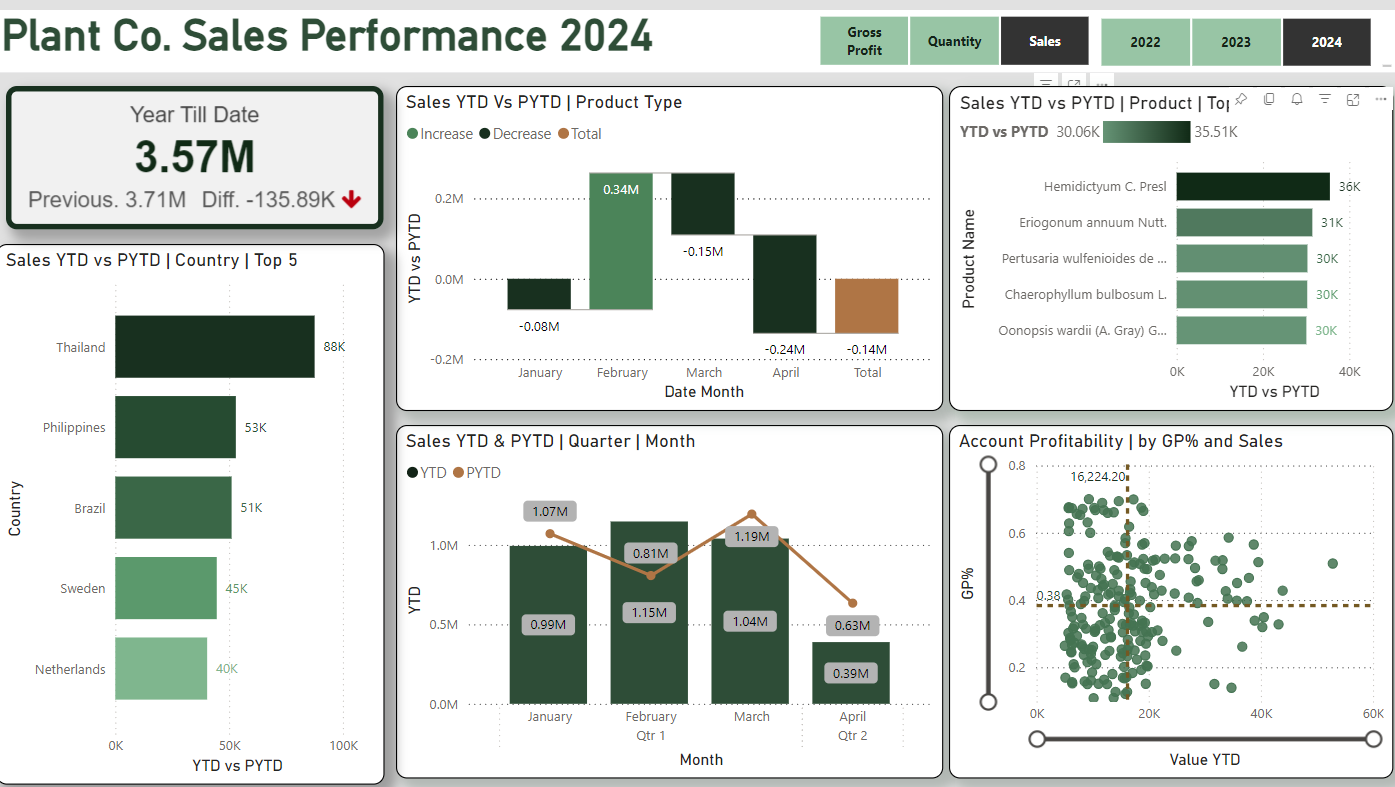

The dashboard page shown, as its layout file describes it:
{"tool":"powerbi","page":{"name":"Performance Report","canvas":[1280,720],"ordinal":0},"visuals":[{"type":"textbox","box":[0,9.6,1279.8,56.7],"z":1000},{"type":"slicer","title":"Year","fields":{"Values":["Dim_Date.Date.Variation.Date Hierarchy.Year"]},"box":[983.7,11.3,296.3,56.6],"z":2000},{"type":"slicer","title":"Year","fields":{"Values":["Slc_Values.Values"]},"box":[727.5,9.3,295.3,57.6],"z":3000},{"type":"lineClusteredColumnComboChart","fields":{"Category":["Dim_Date.Date.Variation.Date Hierarchy.Quarter","Dim_Date.Date.Variation.Date Hierarchy.Month"],"Y":["_Measures.S_YTD"],"Y2":["_Measures.S_PYTD"]},"box":[365.3,388.9,500.1,323.1],"z":4000},{"type":"waterfallChart","fields":{"Category":["Dim_Date.Date.Variation.Date Hierarchy.Month","Dim_Product.Produt_Type"],"Y":["_Measures.YTD vs PYTD"]},"box":[365.6,79.7,500,296.9],"z":5000},{"type":"scatterChart","fields":{"Category":["Dim_Accounts.Account"],"X":["_Measures.S_YTD"],"Y":["_Measures.GP%"]},"box":[870.5,388.9,406.4,323.1],"z":6000},{"type":"barChart","fields":{"Category":["Dim_Accounts.country"],"Y":["_Measures.YTD vs PYTD"]},"box":[0,223.4,354.7,493.8],"z":7000},{"type":"BBED0A4D4D8D44CE93CF2DAFADEE466C","fields":{"actual":["_Measures.S_YTD"],"target1":["_Measures.S_PYTD"],"target2":["_Measures.YTD vs PYTD"]},"box":[9.4,79.7,345.3,131.2],"z":8000},{"type":"barChart","fields":{"Y":["_Measures.YTD vs PYTD"],"Category":["Dim_Product.Product_Name"]},"box":[870.5,79.2,406.4,297.4],"z":9000}]}

Visuals, with their boxes in screenshot pixels (x1, y1, x2, y2), scaled from the page's 1280x720 canvas onto the 1395x787 screenshot:
textbox: select_region(0, 10, 1394, 72)
"Year" slicer: select_region(1072, 12, 1394, 74)
"Year" slicer: select_region(793, 10, 1115, 73)
lineClusteredColumnComboChart - Dim_Date.Date.Variation.Date Hierarchy.Quarter x Dim_Date.Date.Variation.Date Hierarchy.Month: select_region(398, 425, 943, 778)
waterfallChart - Dim_Date.Date.Variation.Date Hierarchy.Month x Dim_Product.Produt_Type: select_region(398, 87, 943, 412)
scatterChart - Dim_Accounts.Account x _Measures.S_YTD: select_region(949, 425, 1392, 778)
barChart - Dim_Accounts.country x _Measures.YTD vs PYTD: select_region(0, 244, 387, 784)
BBED0A4D4D8D44CE93CF2DAFADEE466C - _Measures.S_YTD x _Measures.S_PYTD: select_region(10, 87, 387, 231)
barChart - _Measures.YTD vs PYTD x Dim_Product.Product_Name: select_region(949, 87, 1392, 412)
